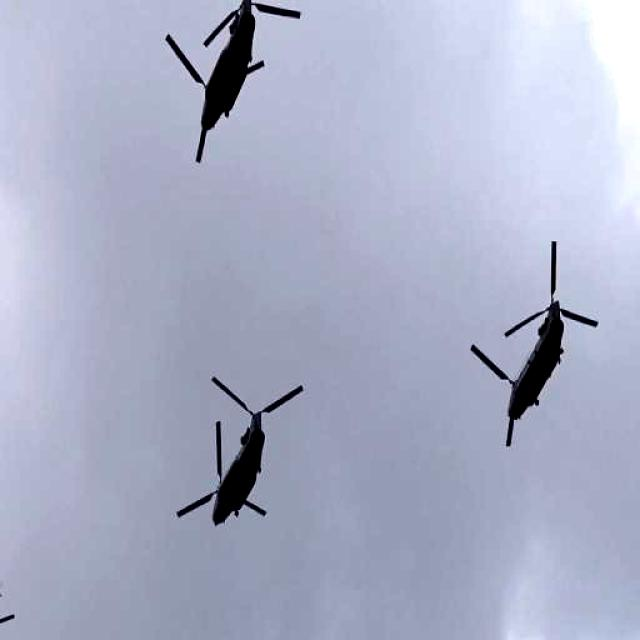drone: (469, 232, 608, 452), (159, 0, 305, 171), (172, 368, 308, 536)
